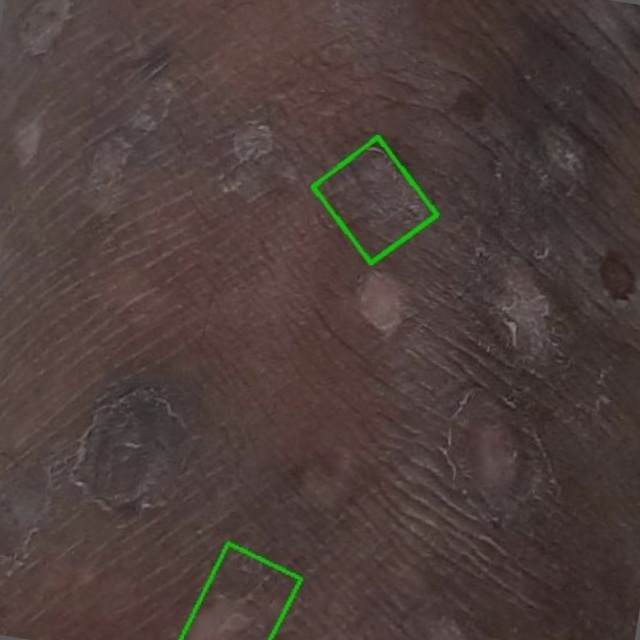Contact Dermatitis: (313, 136, 437, 263), (181, 542, 301, 639)
